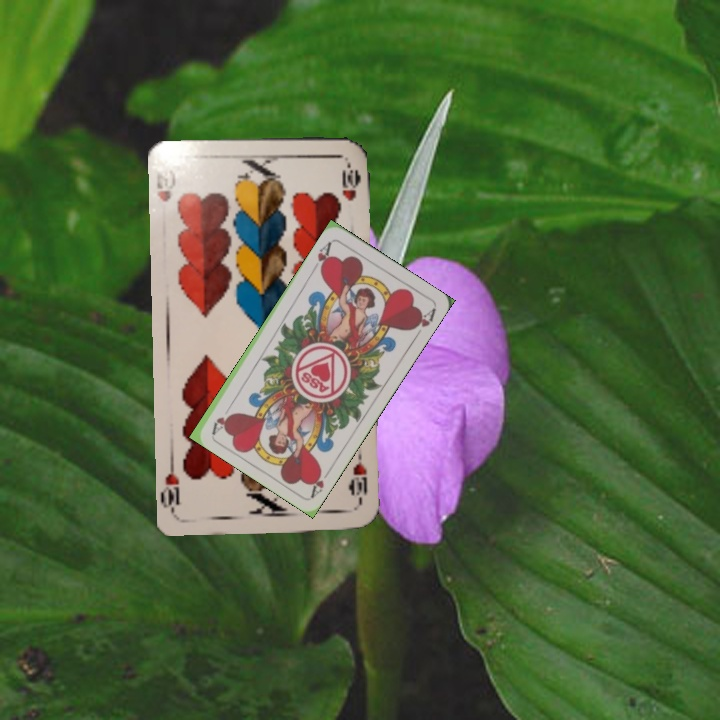H10: (346, 458, 370, 507), (152, 163, 179, 204)
HA: (306, 463, 335, 499), (308, 237, 334, 276)
